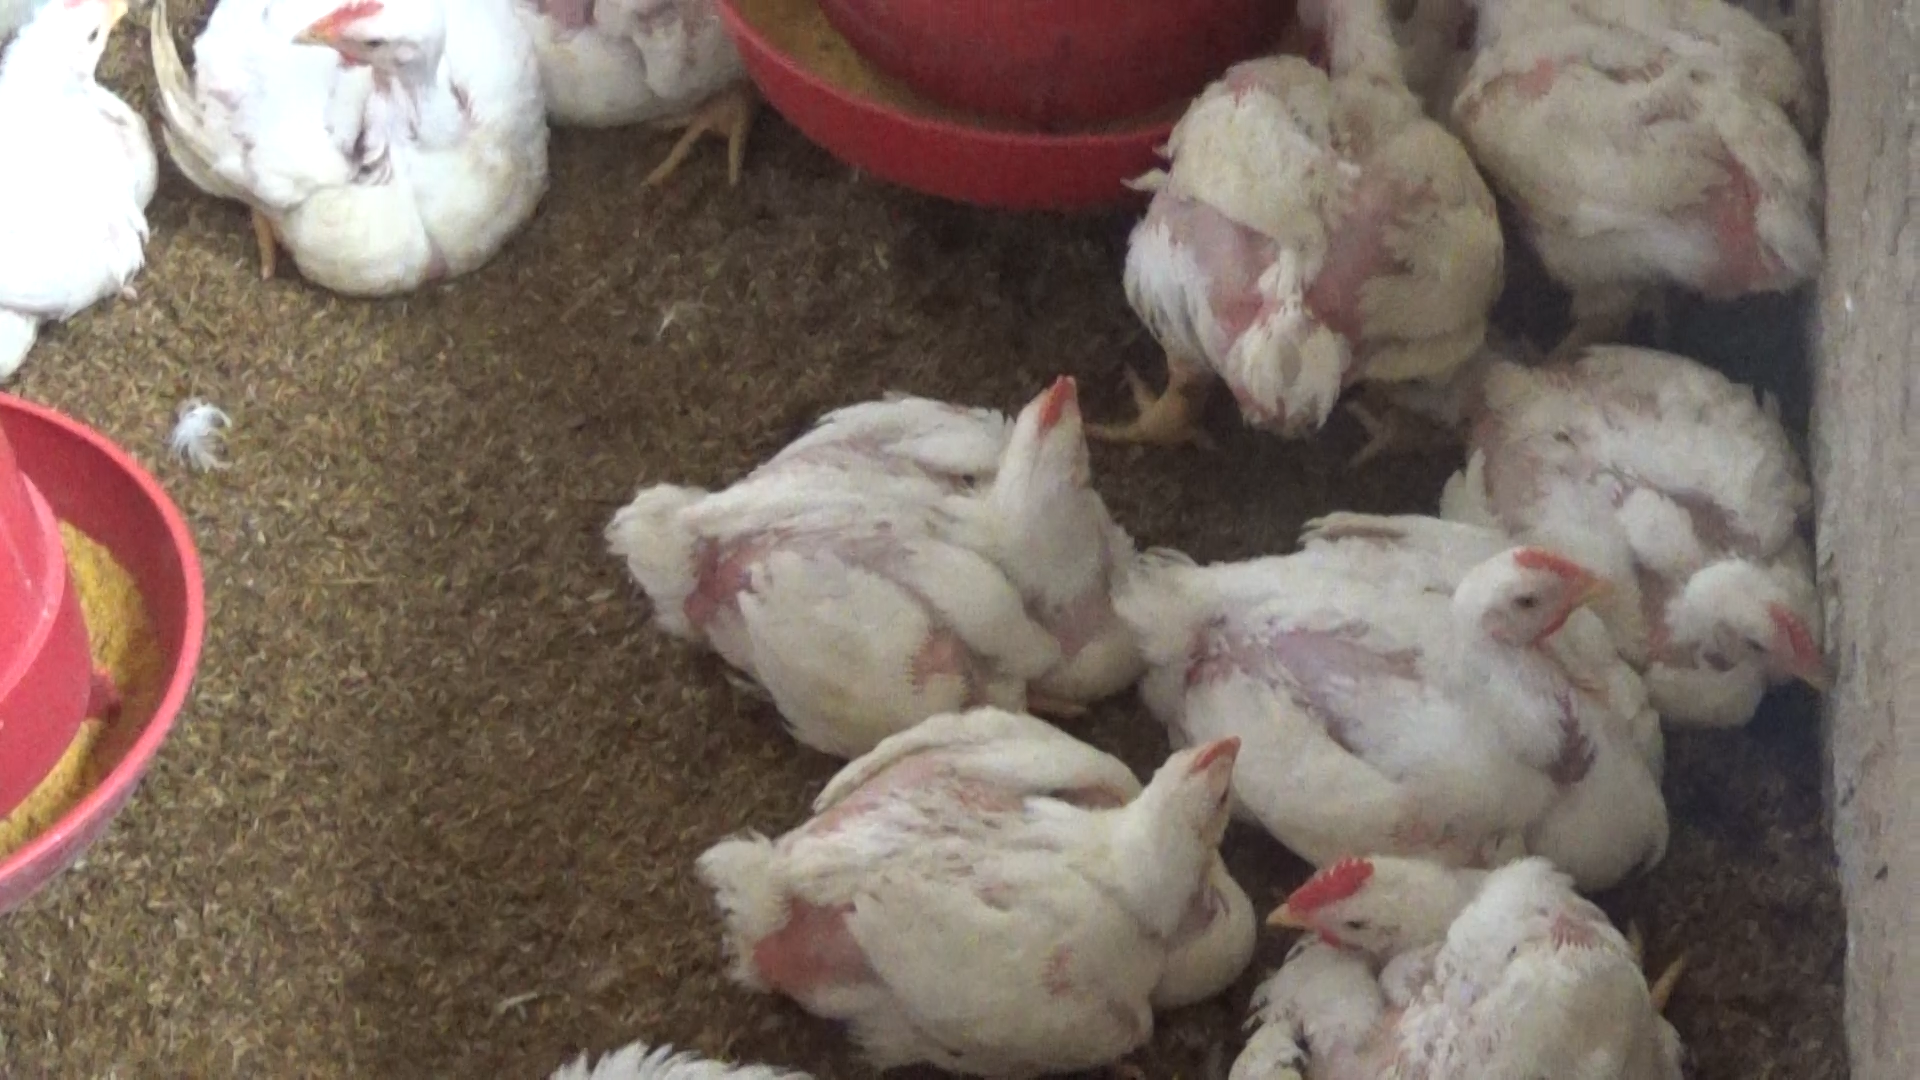Pollos: (589, 363, 1171, 746), (686, 692, 1266, 1052), (1124, 508, 1673, 882), (1077, 0, 1513, 468), (1443, 343, 1857, 727), (1487, 1, 1847, 371), (142, 0, 545, 305), (1218, 848, 1695, 1080), (0, 0, 208, 367)
